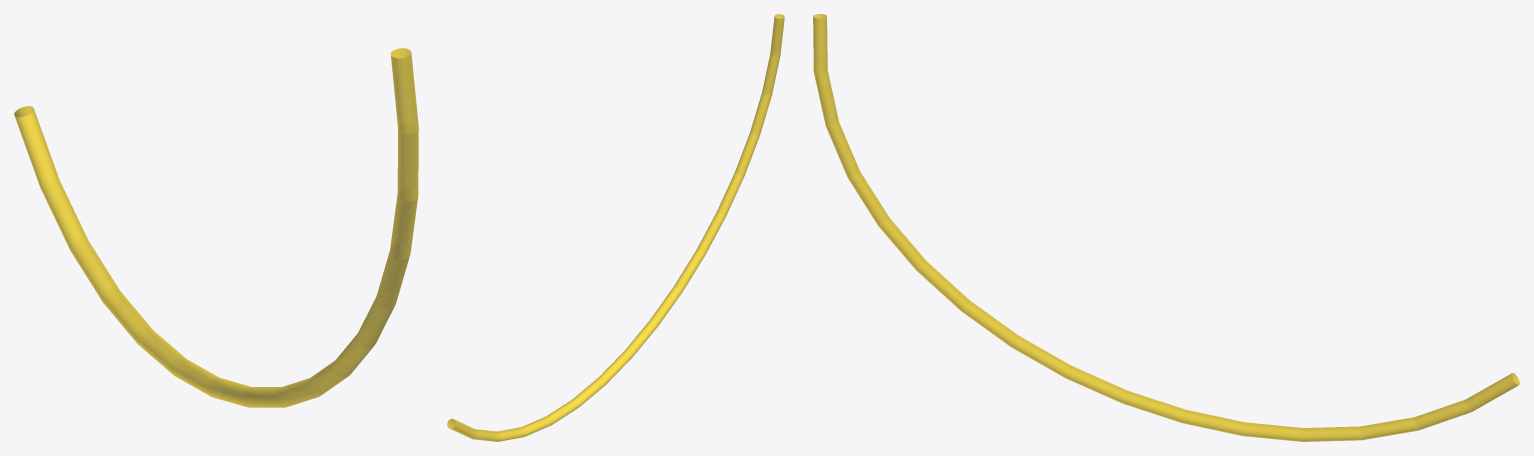
The model's file is Event_17758602_track_63.fbx.
3 renders of one model, left to right at view 1: azimuth 30°, elevation 25°; view 2: azimuth 150°, elevation 25°; view 3: azimuth 270°, elevation 25°, orthographic. The views are drawn at different scales.
Parts seen in each view (by area): view 1: Model; view 2: Model; view 3: Model.
Part boxes in pixels (left/top/right/bottom): Model: left=14, top=48, right=418, bottom=407; Model: left=447, top=14, right=784, bottom=441; Model: left=813, top=14, right=1519, bottom=441.
Size of the model in its own units: 0.3486 by 1.23 by 2.01.
